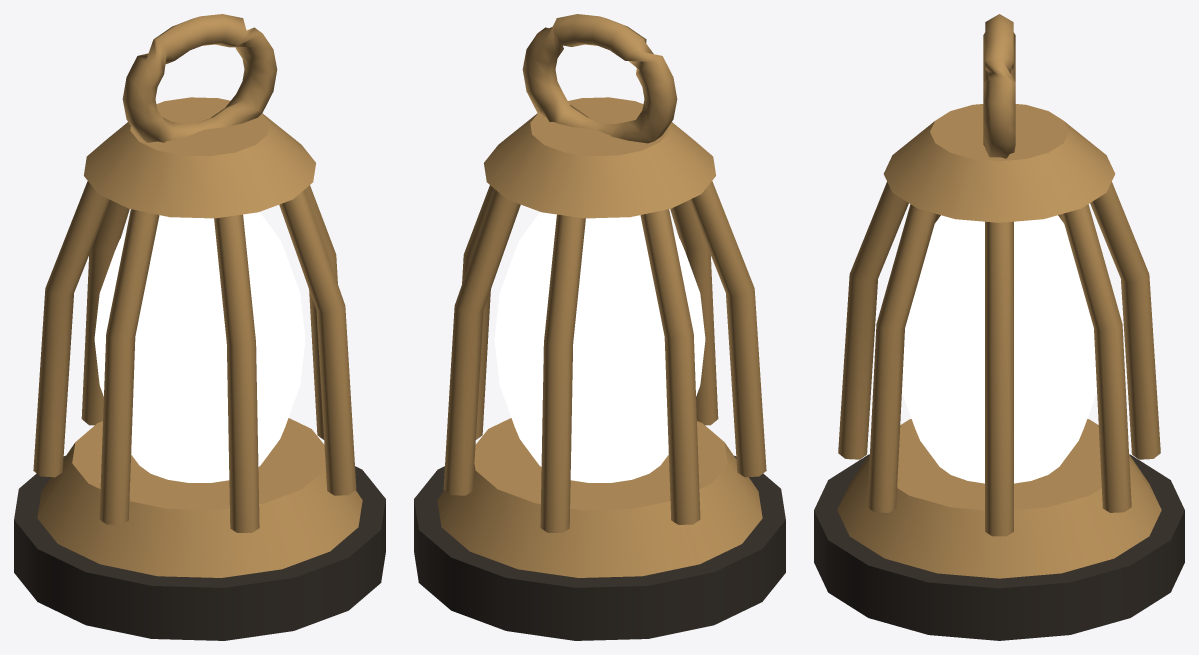
File: SM_Menu_ForegroundLantern.fbx
3 renders of one model, left to right at view 1: azimuth 30°, elevation 25°; view 2: azimuth 150°, elevation 25°; view 3: azimuth 270°, elevation 25°, orthographic.
Parts seen in each view (by area): view 1: Rod.083_Baked; view 2: Rod.083_Baked; view 3: Rod.083_Baked.
Part boxes in pixels (box(x1,y1,x2,y2)): Rod.083_Baked: box(14, 14, 385, 640); Rod.083_Baked: box(414, 14, 785, 640); Rod.083_Baked: box(814, 14, 1184, 640).
Bounding box in the file's own units: 28.8 × 28.8 × 46.26.
